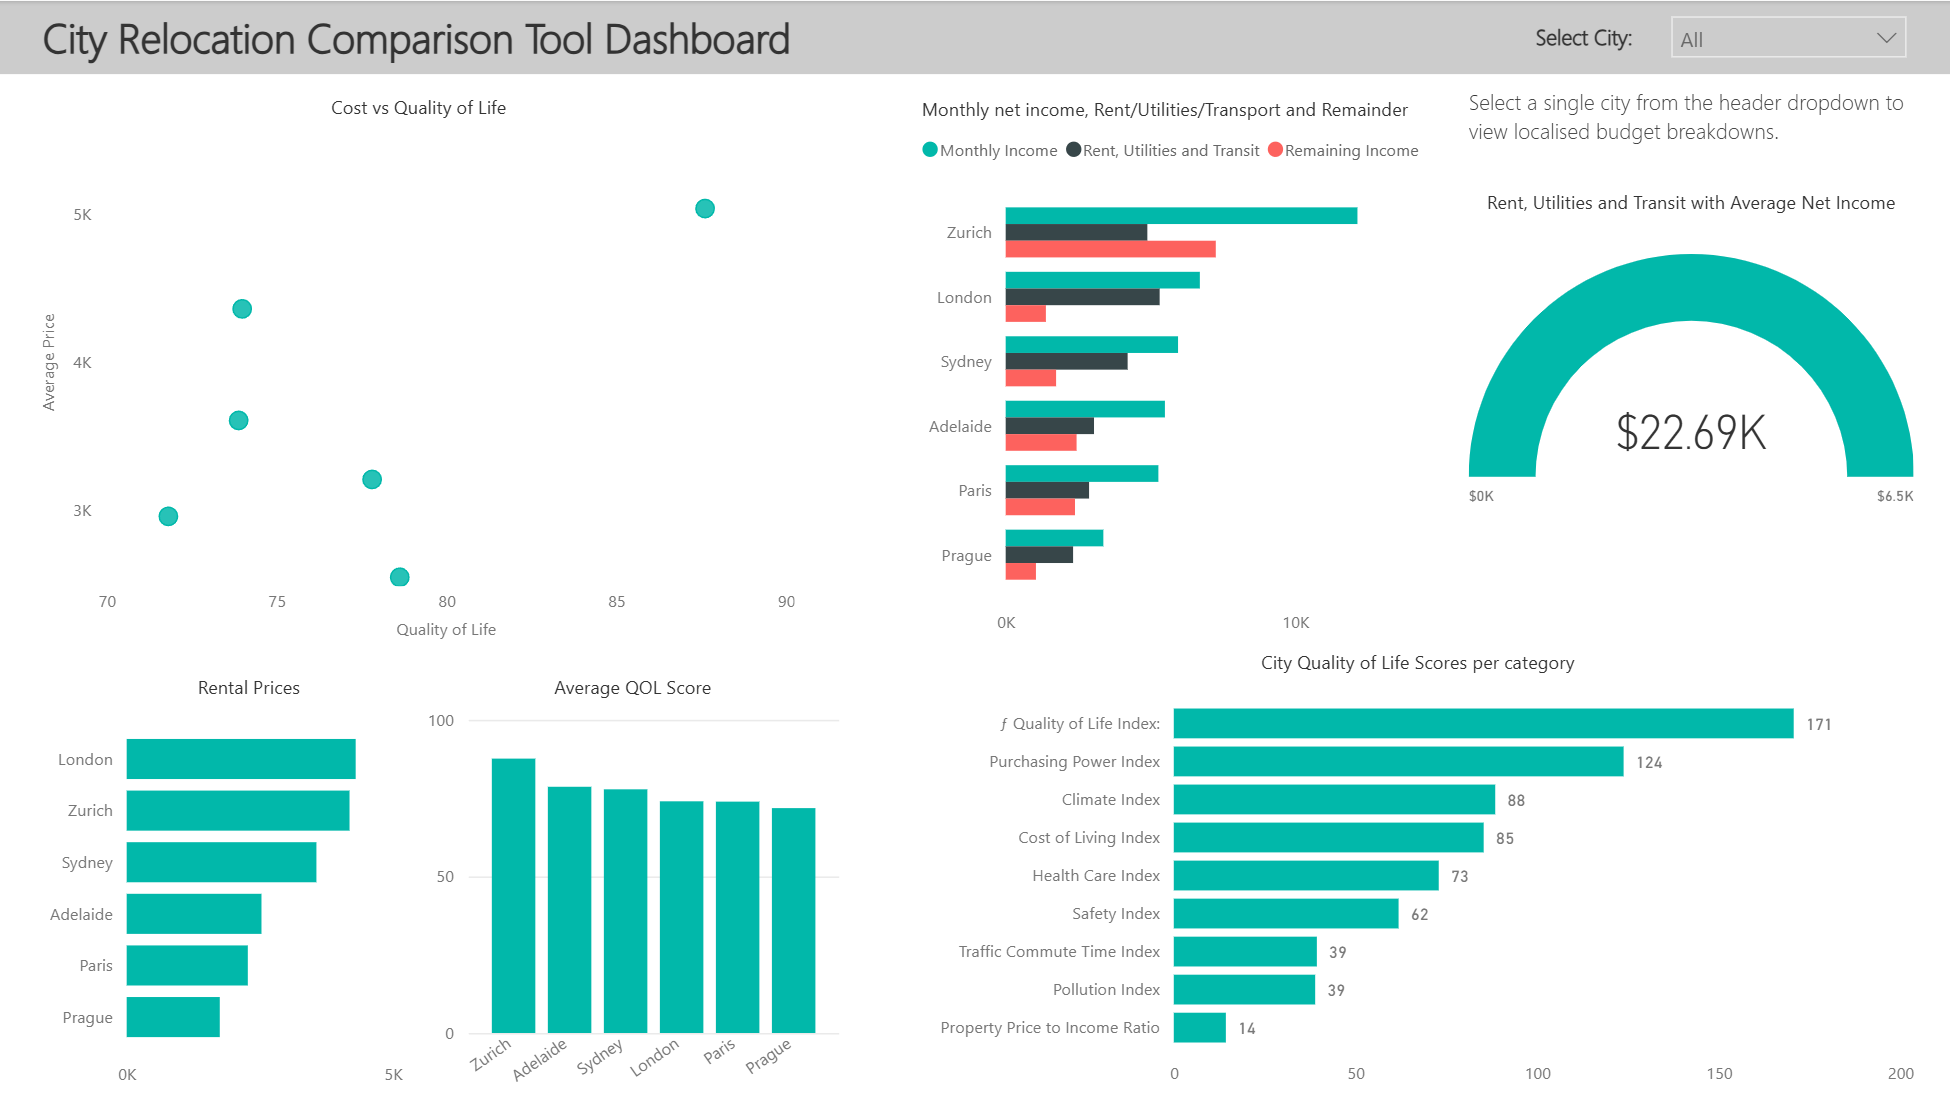

The page's visual inventory and layout, read from the dashboard file:
{"tool":"powerbi","page":{"name":"Page 1","canvas":[1280,720],"ordinal":0},"visuals":[{"type":"columnChart","title":"Average QOL Score","fields":{"Category":["cities.city_name"],"Y":["Avg(psych_utility.qol_item_score)"]},"box":[277.5,440.2,279.9,279.9],"z":0},{"type":"barChart","title":"Rental Prices","fields":{"Category":["cities.city_name"],"Y":["cost_metrics.Cost_Of_Rent"]},"box":[26.3,440.2,279.9,279.9],"z":1},{"type":"scatterChart","title":"Cost vs Quality of Life","fields":{"X":["psych_utility.QOL Score"],"Category":["cities.city_name"],"Y":["cost_metrics.AVG_Price"]},"box":[26.3,60.6,502.4,362.1],"z":2},{"type":"gauge","title":"Rent, Utilities and Transit with Average Net Income","fields":{"MaxValue":["cost_metrics.Monthly_Income"],"Y":["cost_metrics.Rent_Utilities_Transit"]},"box":[959.4,122.8,301.5,236.9],"z":4},{"type":"clusteredBarChart","title":"Monthly net income, Rent/Utilities/Transport and Remainder","fields":{"Category":["cities.city_name"],"Y":["cost_metrics.Monthly_Income","cost_metrics.Rent_Utilities_Transit","cost_metrics.Monthly_Remainder"]},"box":[601.3,62.2,358.1,362.1],"z":5},{"type":"shape","box":[0,0,1280,47.9],"z":6},{"type":"textbox","box":[26.3,0,502.4,52.6],"z":8},{"type":"slicer","fields":{"Values":["cities.city_name"]},"box":[1087,0,173.9,47.9],"z":9},{"type":"textbox","box":[959.4,51,301.5,55.8],"z":10},{"type":"barChart","title":"City Quality of Life Scores per category","fields":{"Category":["psych_utility.qol_item_name"],"Y":["psych_utility.QOL_Score"]},"box":[601.3,424.3,659.5,295.9],"z":11},{"type":"textbox","box":[1003.3,8.8,83.7,30.3],"z":12}]}

Visuals, with their boxes in screenshot pixels (x1, y1, x2, y2), scaled from the page's 1280x720 canvas onto the 1950x1095 screenshot:
"Average QOL Score" columnChart: [x1=423, y1=669, x2=849, y2=1094]
"Rental Prices" barChart: [x1=40, y1=669, x2=466, y2=1094]
"Cost vs Quality of Life" scatterChart: [x1=40, y1=92, x2=805, y2=643]
"Rent, Utilities and Transit with Average Net Income" gauge: [x1=1462, y1=187, x2=1921, y2=547]
"Monthly net income, Rent/Utilities/Transport and Remainder" clusteredBarChart: [x1=916, y1=95, x2=1462, y2=645]
shape: [x1=0, y1=0, x2=1949, y2=73]
textbox: [x1=40, y1=0, x2=805, y2=80]
slicer - cities.city_name: [x1=1656, y1=0, x2=1921, y2=73]
textbox: [x1=1462, y1=78, x2=1921, y2=162]
"City Quality of Life Scores per category" barChart: [x1=916, y1=645, x2=1921, y2=1094]
textbox: [x1=1528, y1=13, x2=1656, y2=59]
